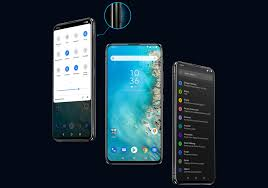asus: (103, 38, 165, 165), (46, 17, 97, 144), (166, 61, 217, 187)
